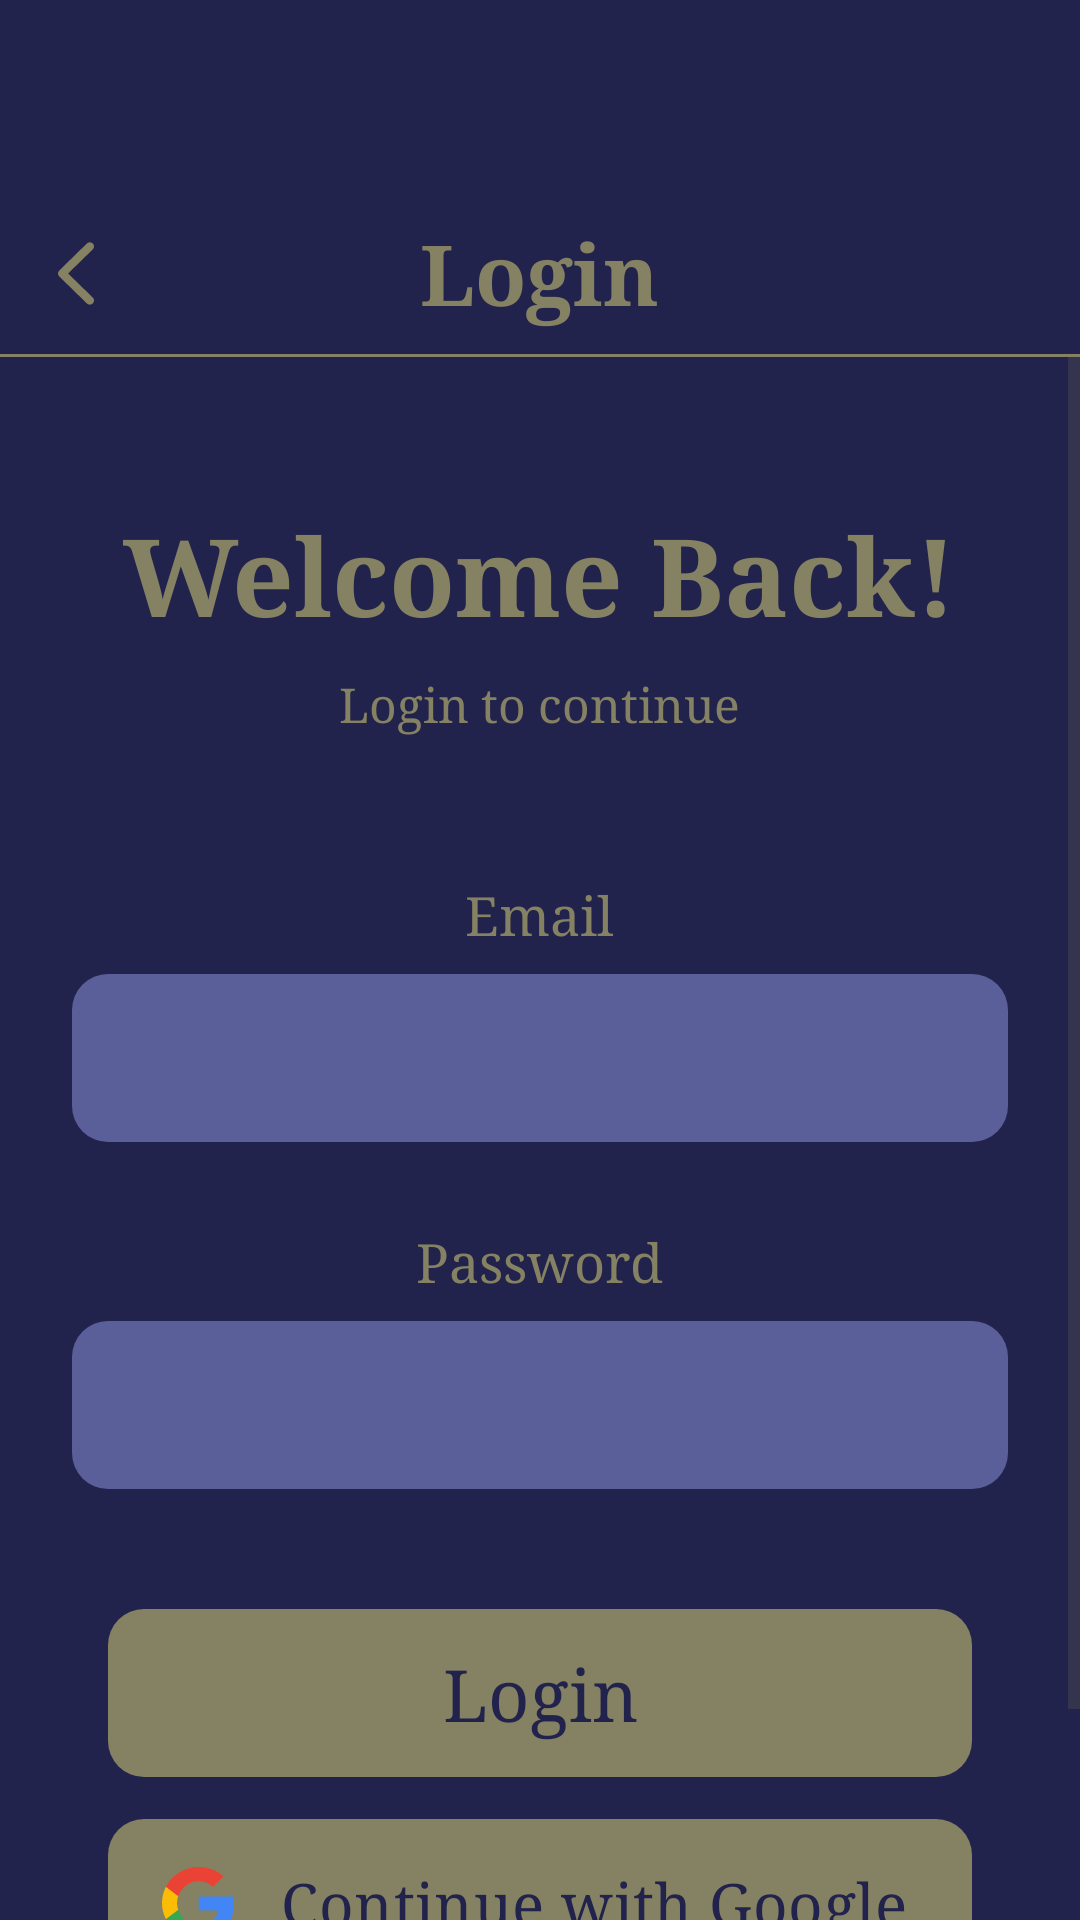

Point at icon controls on the screen. Image size 1080 x 1920, points as (x,y).
Back: (76,273)
